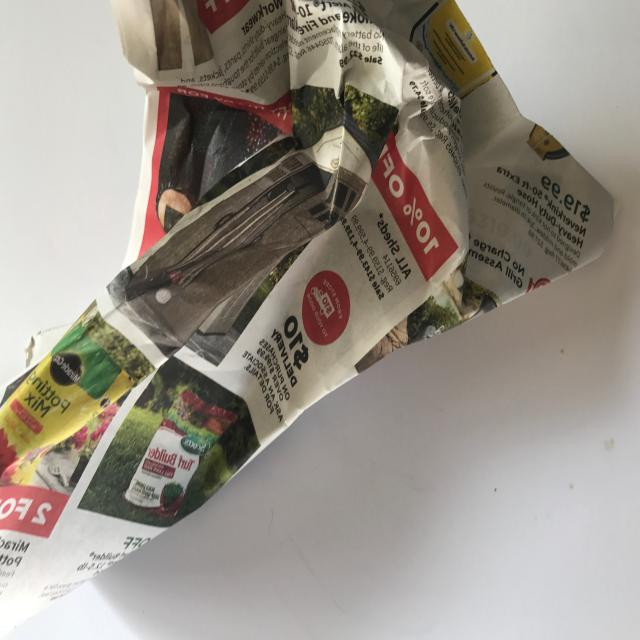paper: (0, 0, 631, 636)
